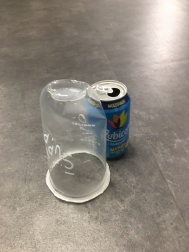can_blue: (76, 72, 144, 165)
